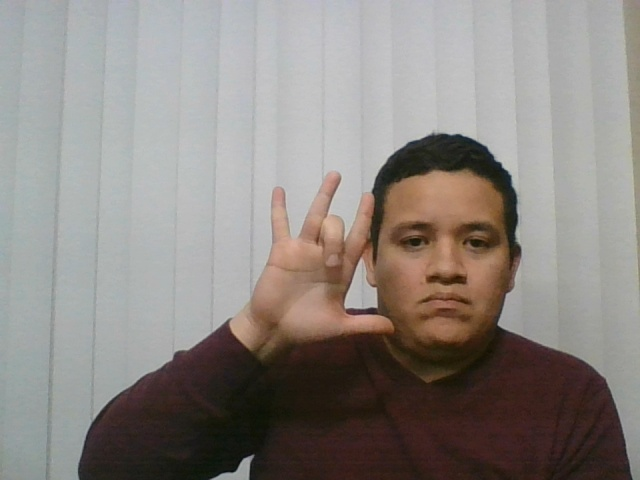Eight: (208, 161, 420, 360)
